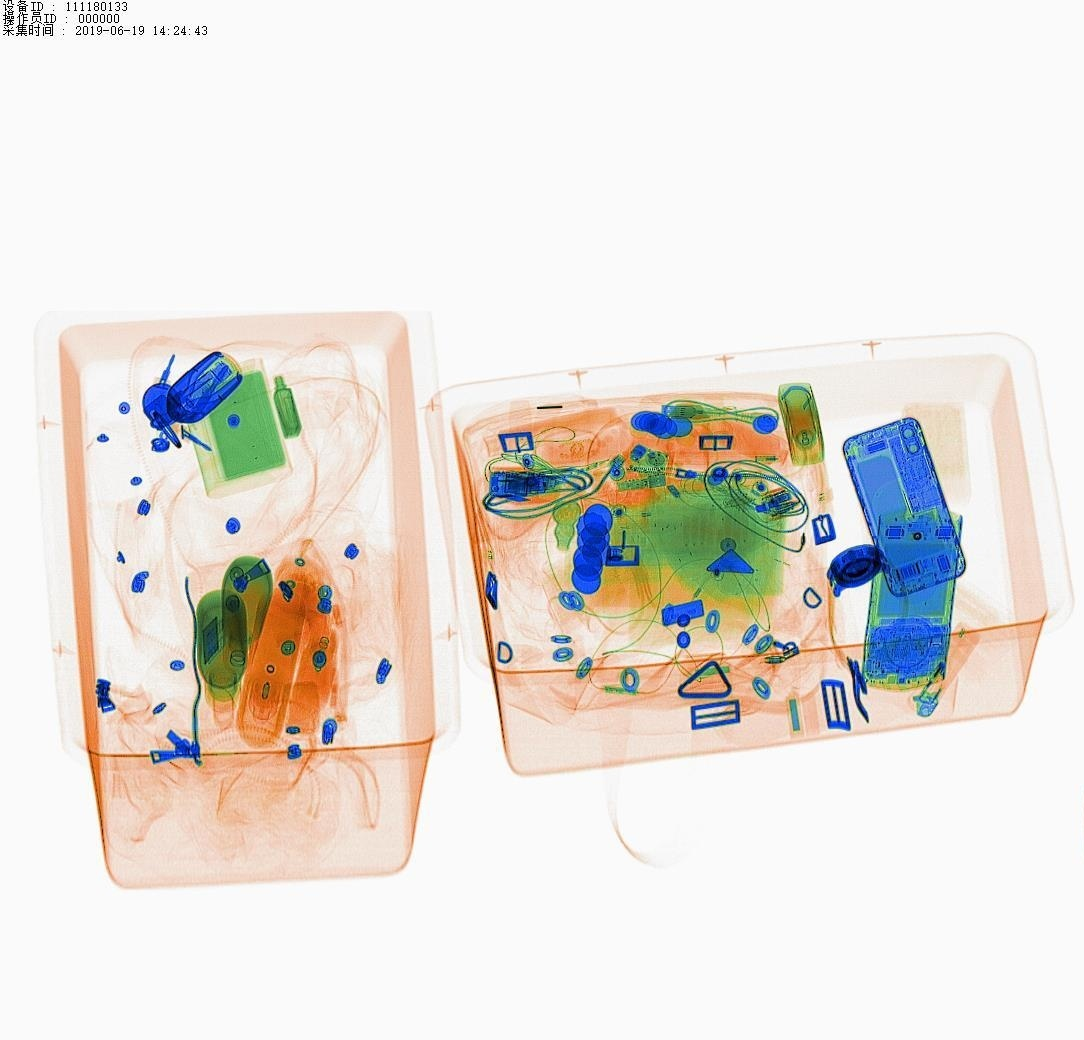NonmetallicFire: (913, 633, 984, 732)
